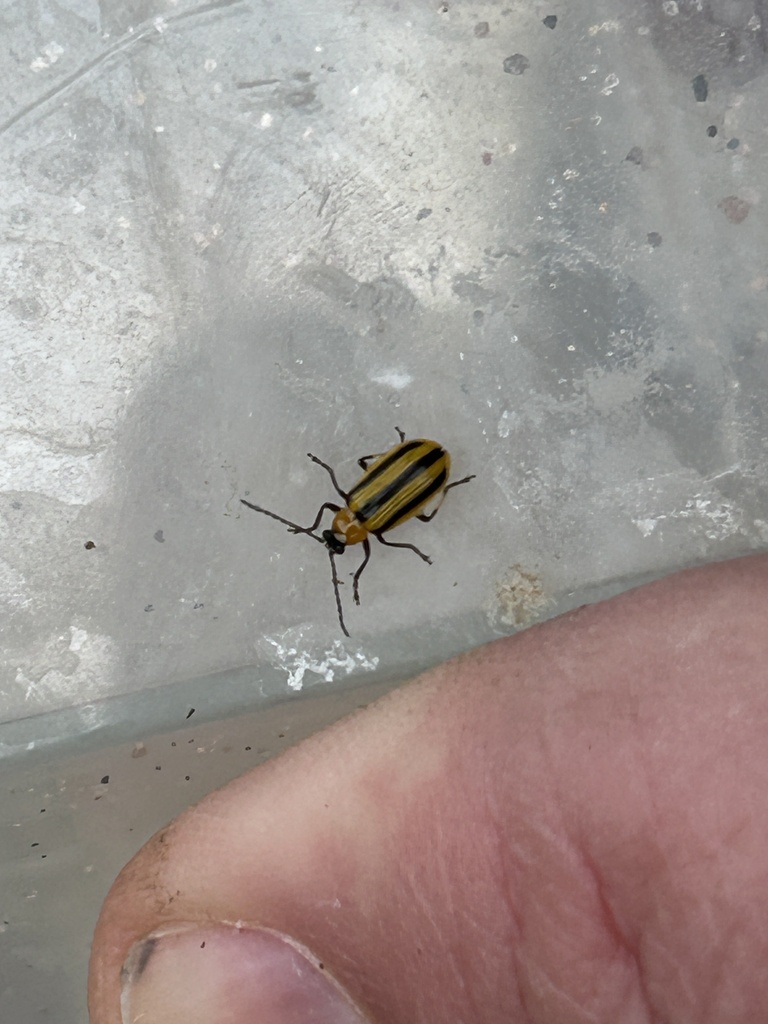potato_beetle: (201, 370, 521, 688)
